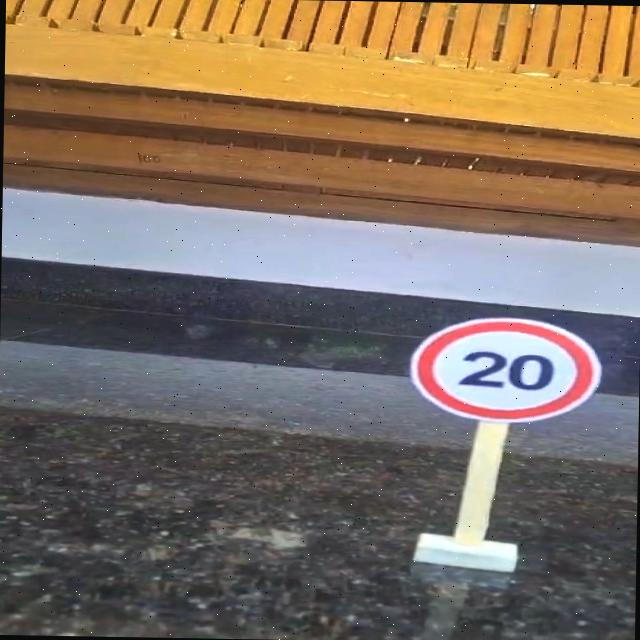Speed20: (397, 304, 614, 432)
